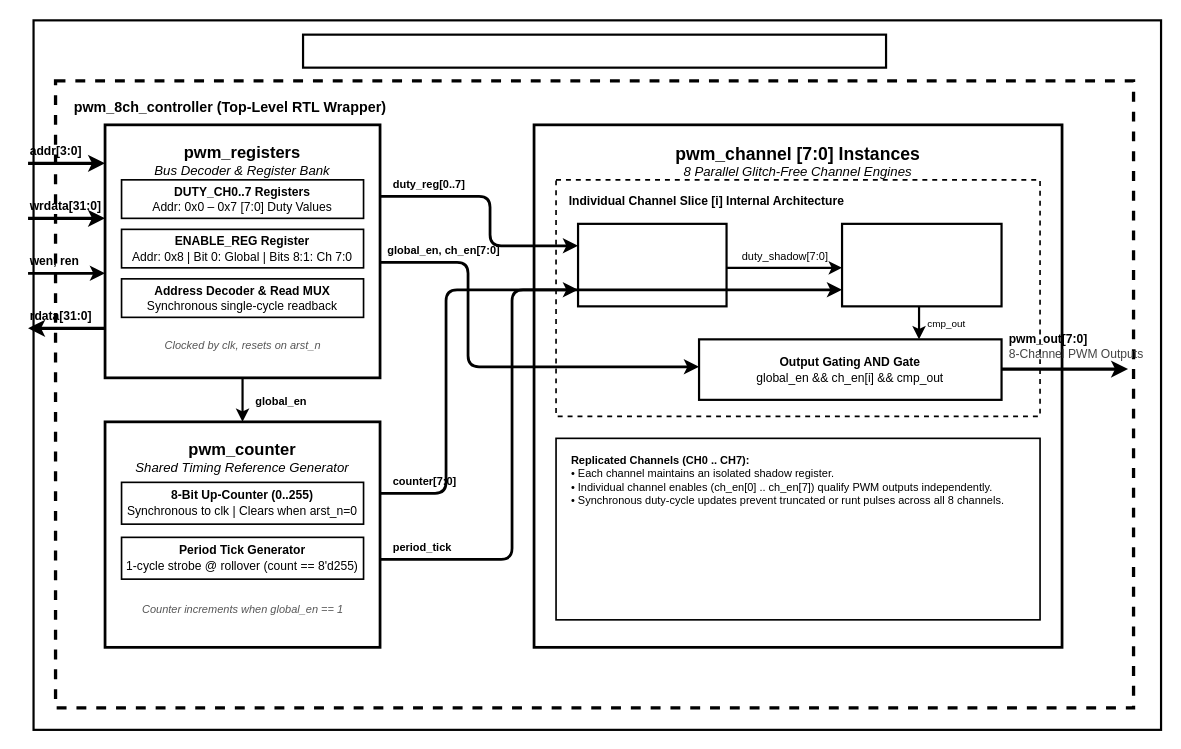
Image size: 1181x749. Some labels were removed from this diagram. The centre of each missing label's shape, as x and y in pixels:
"8-CHANNEL PWM CONTROLLER — INTERNAL ARCHITECTURE DECOMPOSITION" belongs at point (594, 50).
"Magnitude CMP 8-bit unsigned compare counter < duty_shadow" belongs at point (921, 264).
"Shadow Register duty_shadow[7:0] Latches on period_tick" belongs at point (651, 264).
